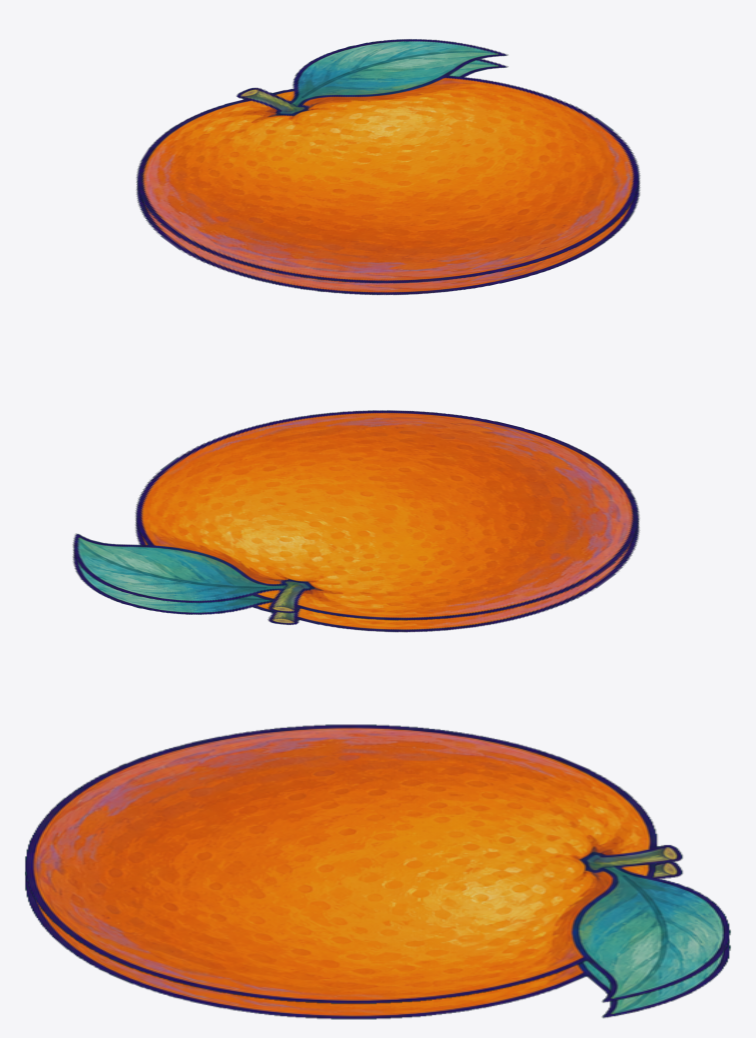
Rendered from fruit_orange.glb.
3 views of the same model, one above another, from view 1: azimuth 30°, elevation 25°; view 2: azimuth 150°, elevation 25°; view 3: azimuth 270°, elevation 25° (orthographic). The views are drawn at different scales.
Parts seen in each view (by area): view 1: fruit_orange; view 2: fruit_orange; view 3: fruit_orange.
Part boxes in pixels (left/top/right/bottom): fruit_orange: left=136, top=39, right=640, bottom=294; fruit_orange: left=72, top=410, right=639, bottom=632; fruit_orange: left=25, top=724, right=730, bottom=1019.
Size of the model in its own units: 2 by 0.05 by 2.13.
1 material, 1 textured.
